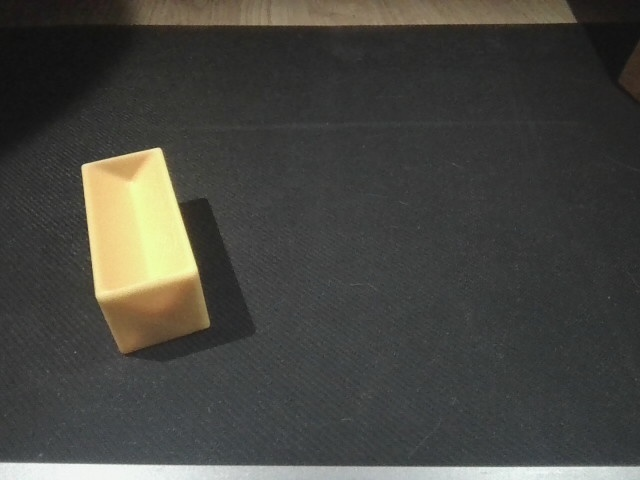YellowSample: (80, 146, 210, 357)
